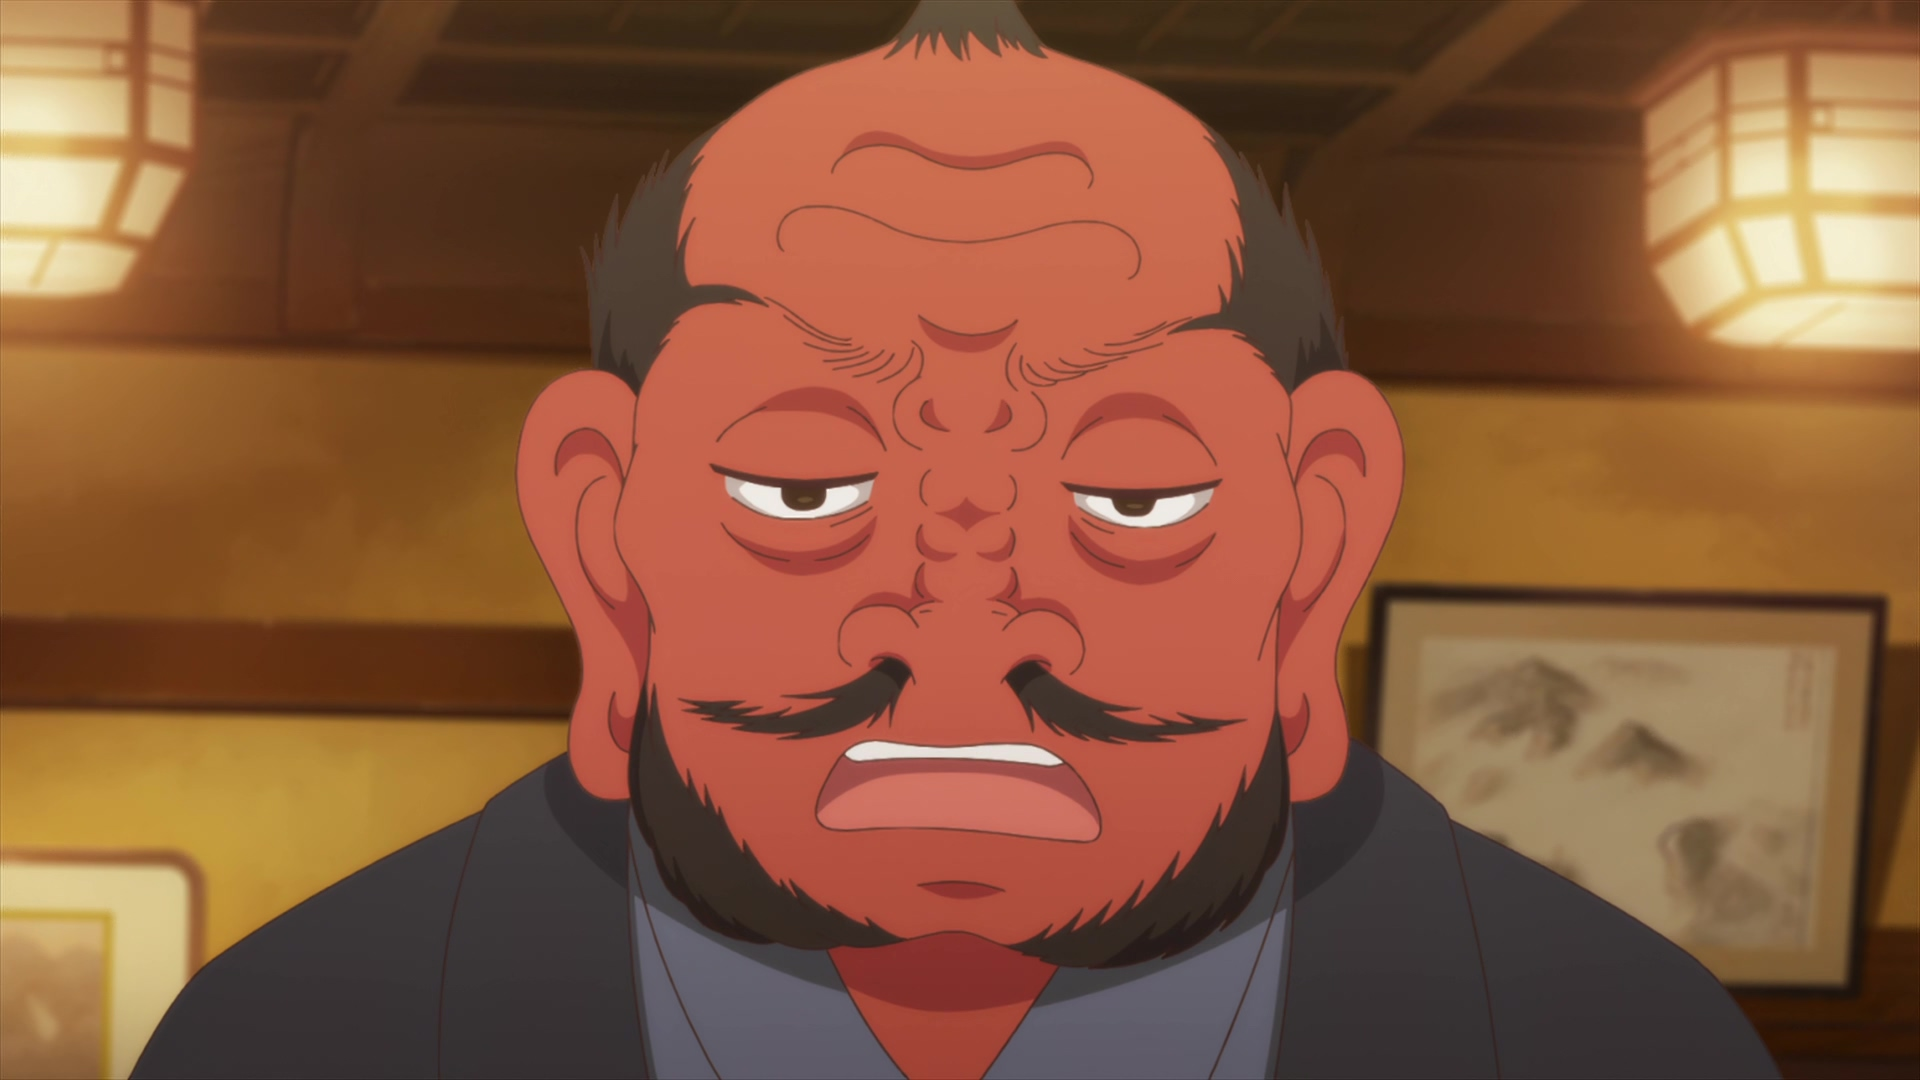其他: (133, 1, 1774, 1080)
